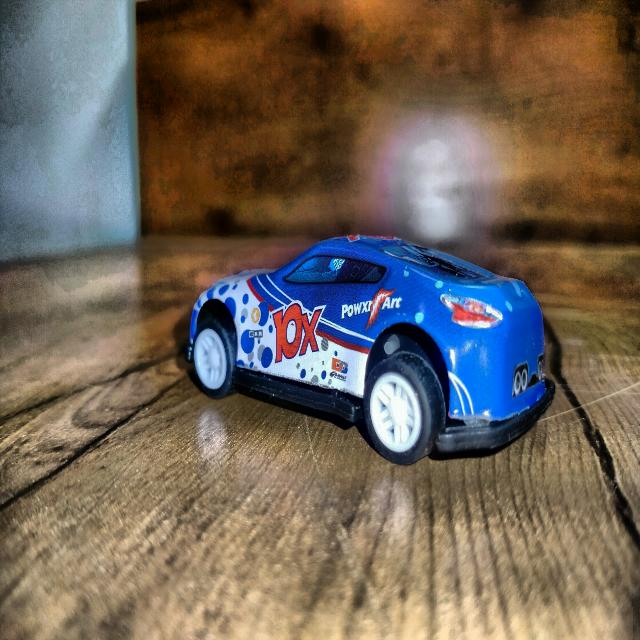Car: (186, 236, 554, 464)
